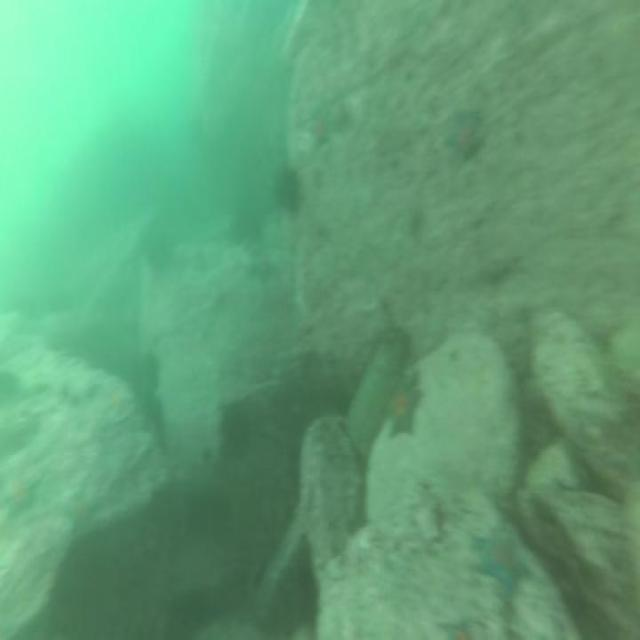echinus: (268, 160, 304, 220), (218, 403, 252, 458), (141, 226, 175, 278), (230, 201, 263, 248), (136, 348, 164, 393), (142, 387, 166, 433), (0, 366, 22, 416)
starfish: (468, 523, 534, 601), (442, 108, 488, 164), (385, 380, 424, 442), (2, 466, 42, 525), (59, 487, 100, 539), (100, 381, 136, 419)
